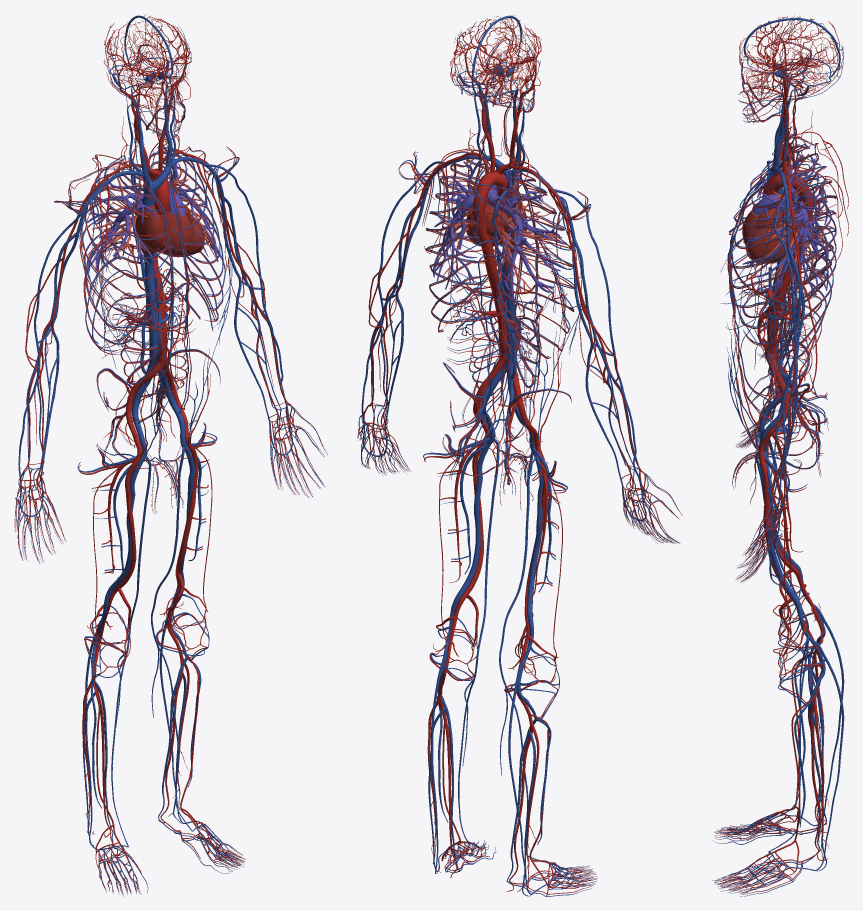
File: vessels.glb
The picture shows the model from 3 angles, left to right: view 1: azimuth 30°, elevation 25°; view 2: azimuth 150°, elevation 25°; view 3: azimuth 270°, elevation 25°; orthographic projection. The views are drawn at different scales.
Parts seen in each view (by area): view 1: v545, v486, v346, v215, v528, v216, v550, v198, v485, v107, v197, v106 (+2 smaller); view 2: v486, v545, v346, v485, v215, v216, v199, v200, v107, v653, v85, v197 (+4 smaller); view 3: v346, v485, v106, v545, v350, v564, v197, v9, v216, v565, v215, v486 (+24 smaller).
Part boxes in pixels (x1,y1,x2,y2): v545: (81, 155, 172, 351); v486: (79, 163, 169, 354); v346: (144, 147, 225, 330); v215: (151, 446, 192, 831); v528: (135, 205, 170, 254); v216: (111, 456, 151, 846); v550: (155, 211, 197, 256); v198: (115, 431, 142, 590); v485: (149, 153, 225, 331); v107: (18, 187, 101, 488); v197: (175, 419, 198, 575); v106: (202, 162, 289, 422); v486: (478, 187, 574, 358); v545: (492, 170, 574, 357); v346: (425, 156, 502, 331); v485: (426, 177, 501, 332); v215: (458, 439, 499, 844); v216: (499, 451, 539, 859); v199: (459, 423, 495, 594); v200: (527, 435, 543, 609); v107: (554, 189, 643, 496); v653: (472, 197, 497, 275); v85: (572, 238, 622, 483); v197: (462, 419, 489, 598); v346: (729, 163, 836, 358); v485: (729, 175, 836, 359); v106: (774, 197, 796, 519); v545: (729, 144, 836, 304); v350: (748, 224, 794, 263); v564: (803, 640, 844, 870); v197: (759, 431, 793, 601); v9: (764, 266, 793, 354); v216: (755, 432, 820, 820); v565: (803, 604, 844, 826); v215: (755, 452, 820, 851); v486: (729, 153, 836, 308).
Size of the model in its own units: 66.4 by 170 by 24.89.
